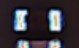COMP: (9, 5, 69, 35)
GAP: (14, 21, 62, 48)
